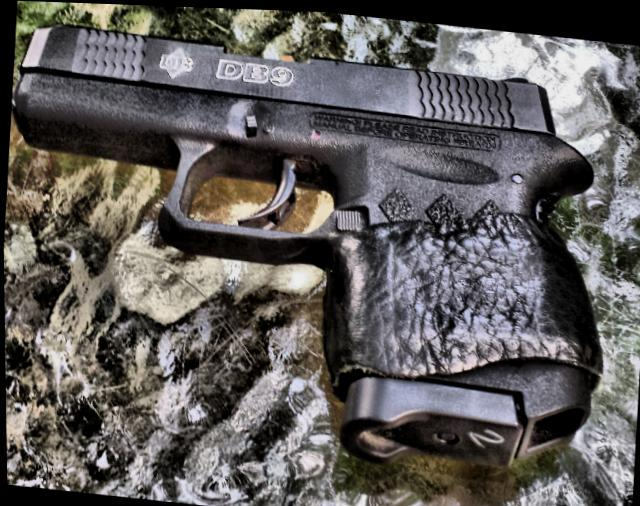pistol: (0, 20, 610, 474)
